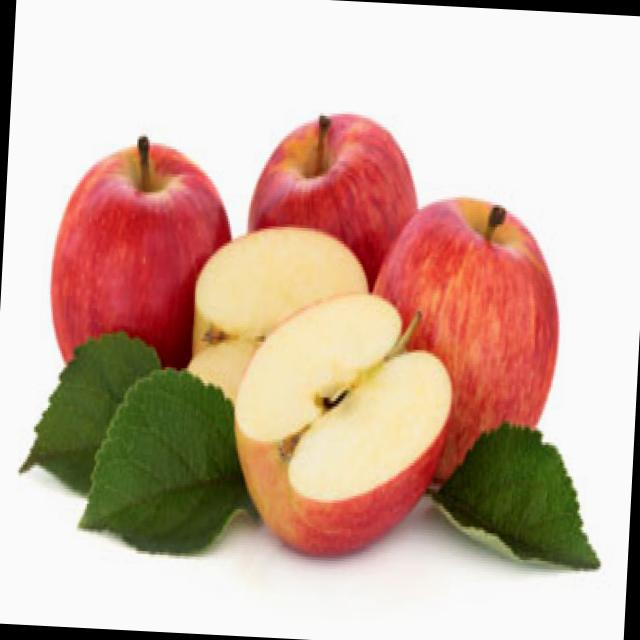apple: (357, 184, 574, 498), (38, 129, 244, 445), (238, 104, 436, 375)
